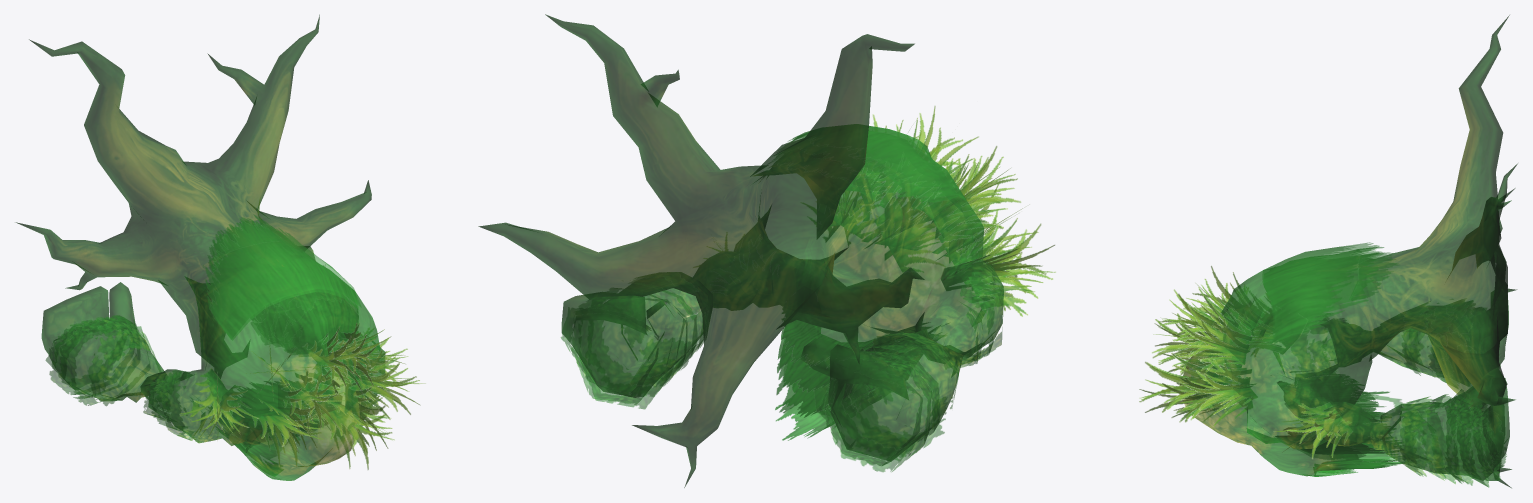
The picture shows the model from 3 angles, left to right: view 1: azimuth 30°, elevation 25°; view 2: azimuth 150°, elevation 25°; view 3: azimuth 270°, elevation 25°; orthographic projection. The views are drawn at different scales.
Parts seen in each view (by area): view 1: M244; view 2: M244; view 3: M244.
Part boxes in pixels (box(x1,y1,x2,y2)): M244: box(15, 14, 425, 480); M244: box(478, 14, 1055, 487); M244: box(1139, 15, 1517, 488).
Size of the model in its own units: 5.23 by 5.66 by 5.19.
